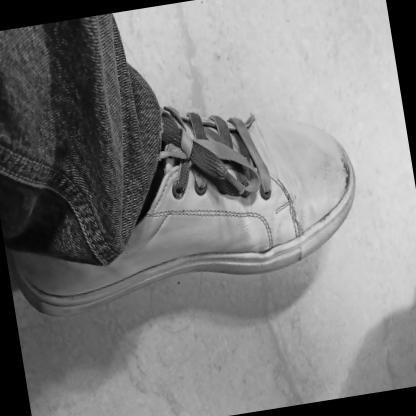ankle: (126, 231, 135, 242)
heel: (22, 281, 33, 290)
pinky: (300, 124, 309, 133)
right_foot: (1, 73, 368, 324)
toe: (341, 194, 348, 203)
